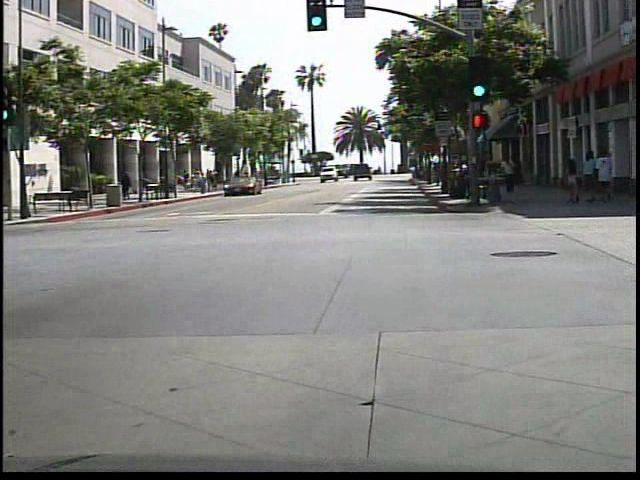person: (495, 152, 520, 197), (121, 169, 132, 203)
